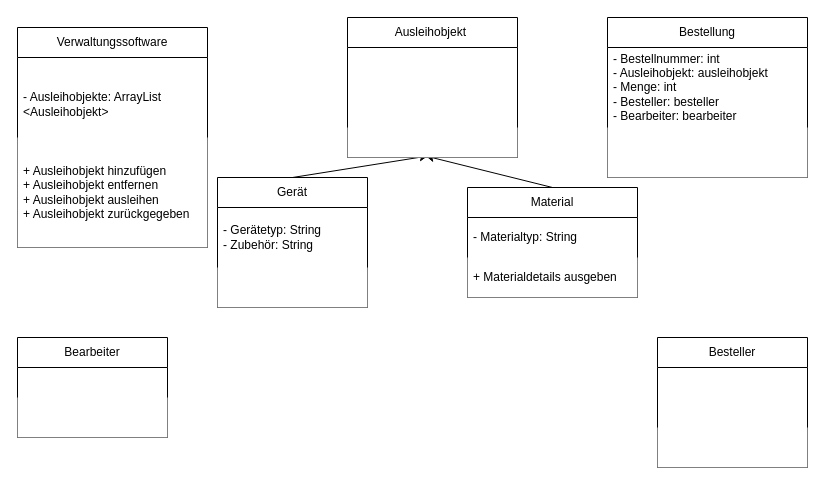
The diagram is 825 pixels wide and 485 high, and some of its shapes have lost their labels. Each missing label, with the centre of its shape:
# Name: String # Nummer: int # Rückgabepflicht: boolean # Verfügbarkeit: boolean: pixel 432 87
+ Bestellung durchführen: pixel 732 447
+ Bestellung freigeben: pixel 92 417
+ Bestellungsdetails anzeigen: pixel 707 152
+ Gerätedetails ausgeben: pixel 292 287
- Name: String - Personalnummer: int: pixel 92 382
- Name: String - Personalnummer: int - Bestellung: bestellung: pixel 732 397
